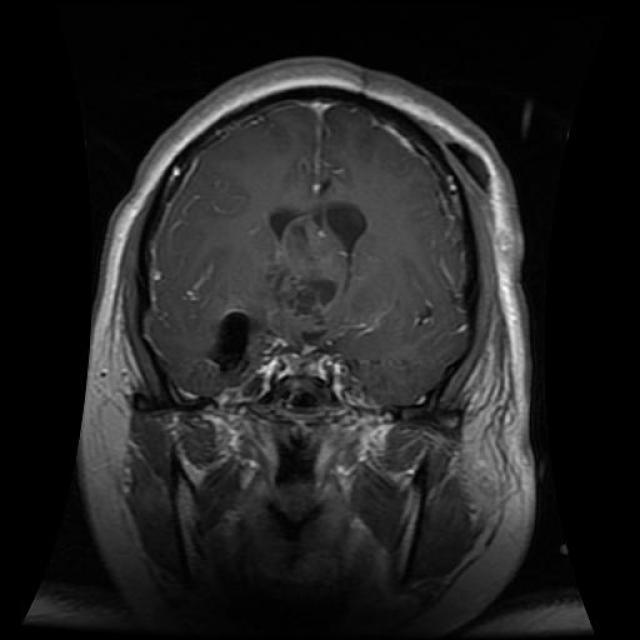glioma: (271, 200, 380, 310)
